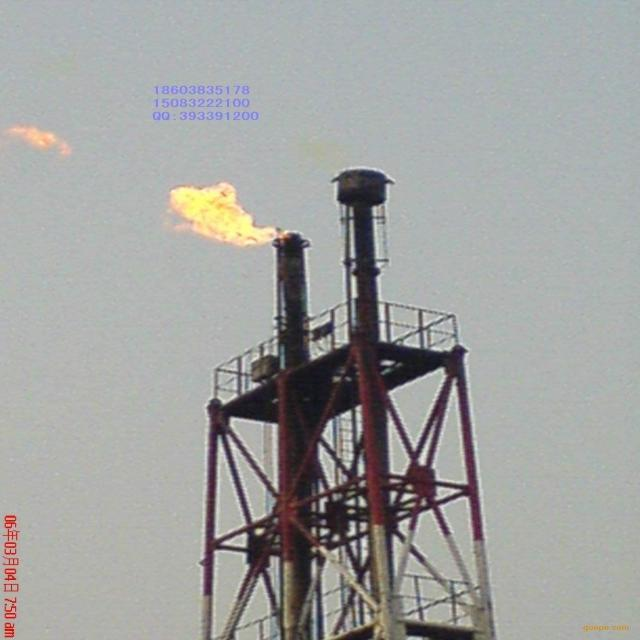Fire: (168, 180, 291, 246), (8, 122, 79, 164)
